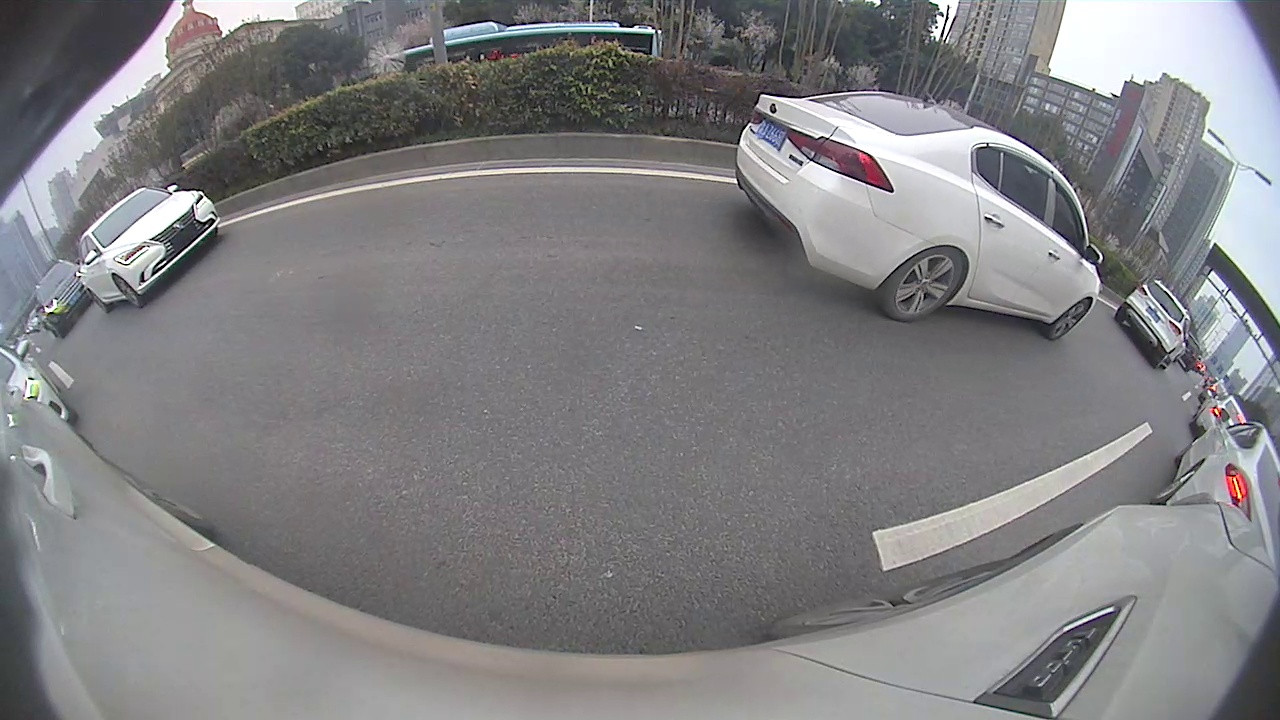car: (733, 88, 1104, 345), (75, 183, 222, 315), (1151, 406, 1279, 545), (1115, 276, 1194, 371)
front: (1046, 295, 1096, 341), (114, 274, 142, 310)
rear: (883, 246, 969, 325)
